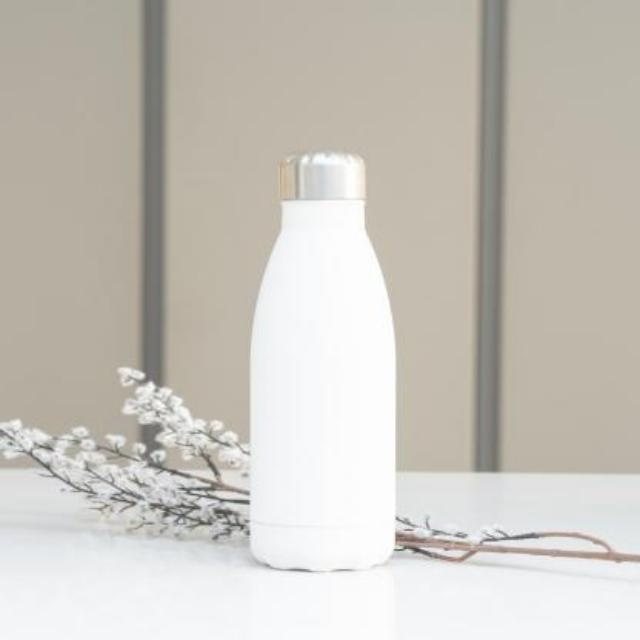bottle: (231, 140, 417, 584)
